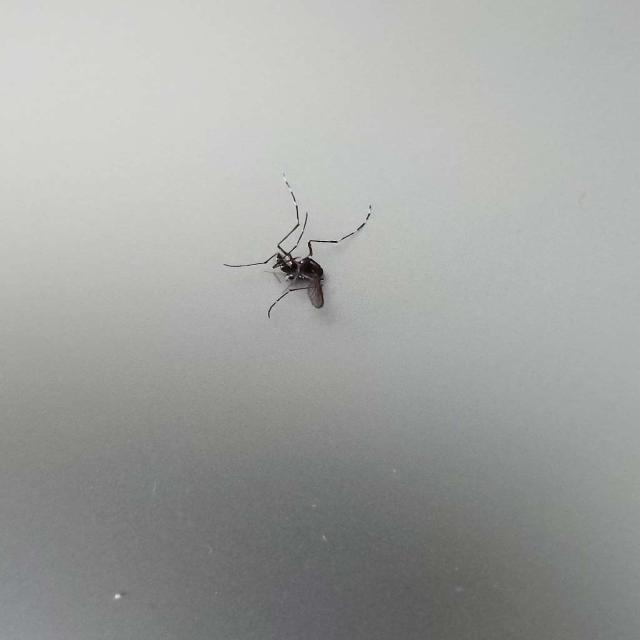albopictus: (212, 169, 376, 320)
